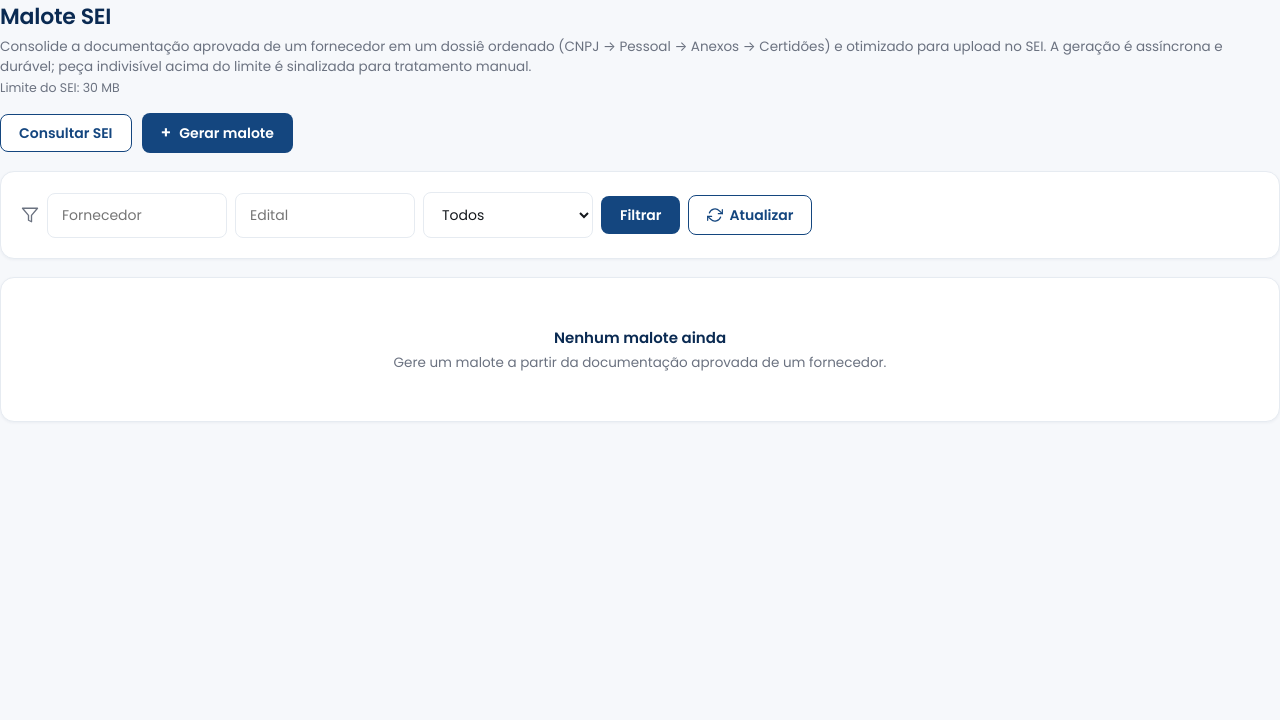
GerarMalote — Painel Admin do malote SEI (UC010) › remove uma peça adicionada no editor do modal
Expected: the element with test id "vazio" is shown, [394,327,886,372]
Click the button with test id "novo-malote" at (217, 133), box [142,113,293,153]
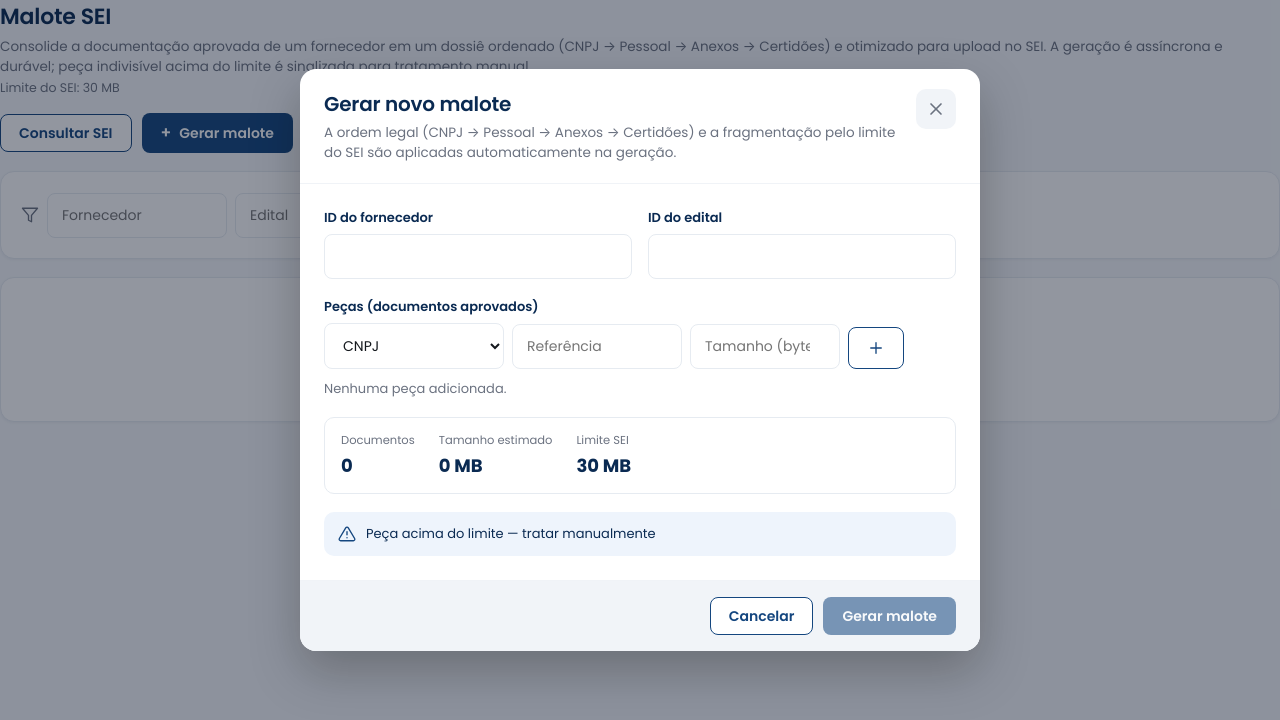
Expected: the dialog with test id "modal-malote" is shown, [300,69,980,651]
Type "doc1" into the field with test id "peca-ref" at (597, 346), box [512,324,682,369]
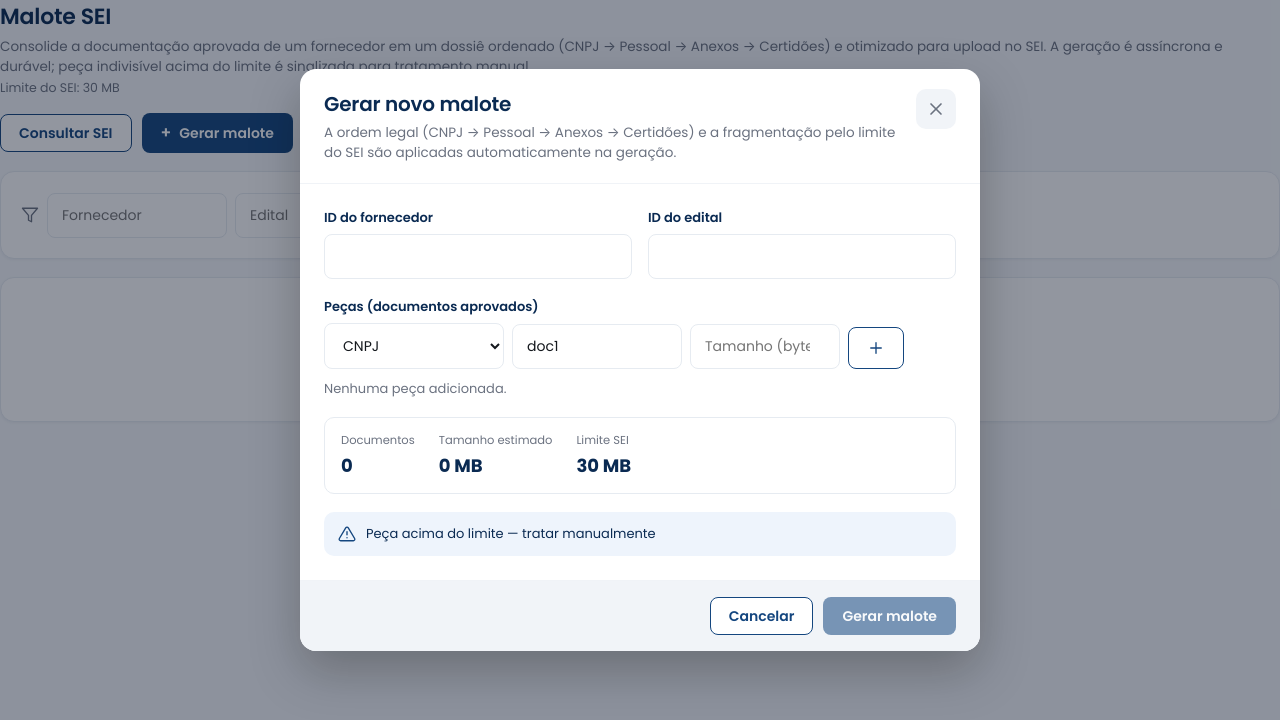
Type "100" into the number field with test id "peca-tamanho" at (765, 346), box [690,324,840,369]
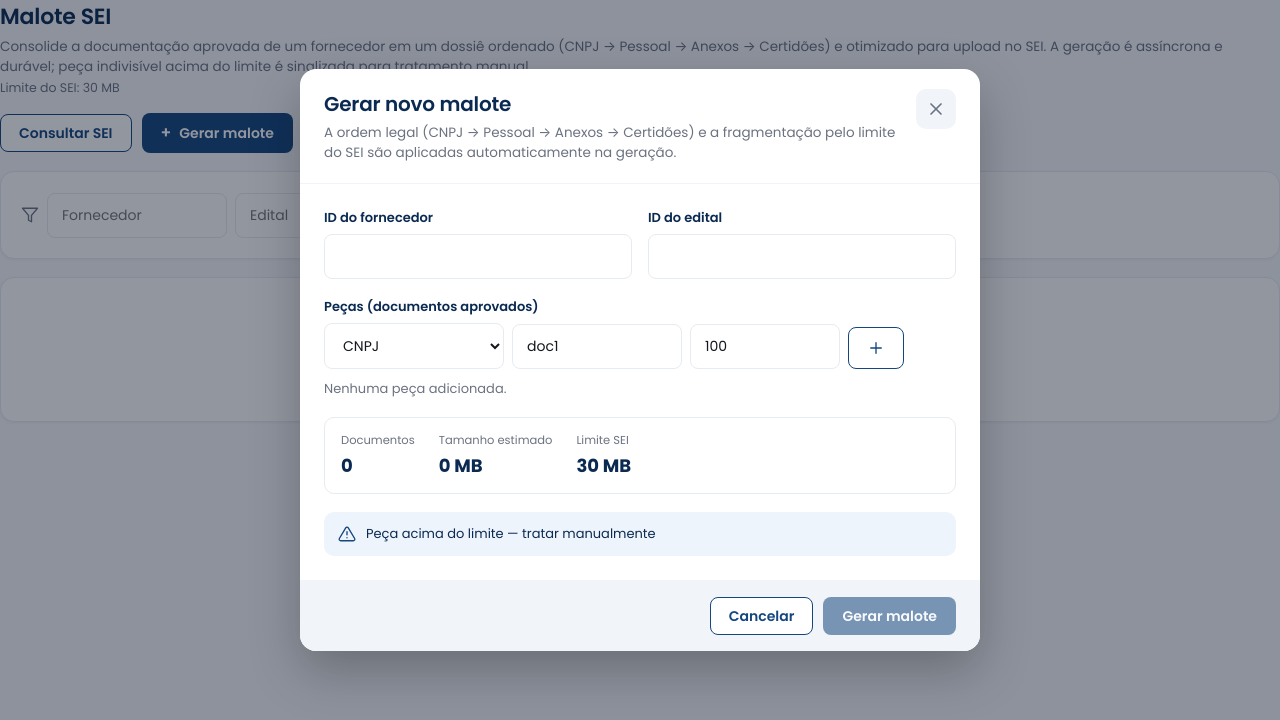
Click the button with test id "add-peca" at (876, 348), box [848,327,904,369]
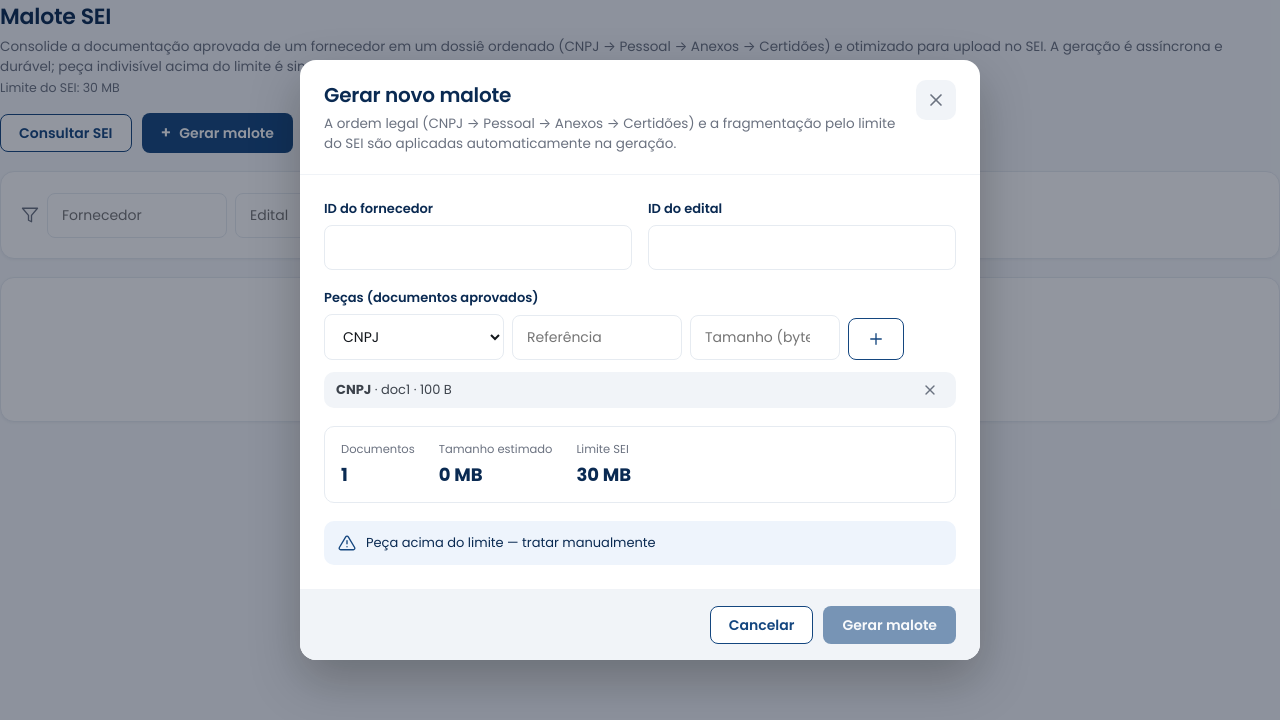
Expected: the list item with test id "item-peca" is shown, [324,372,956,408]
Click the button with test id "remover-peca" at (930, 390), box [916,381,944,399]
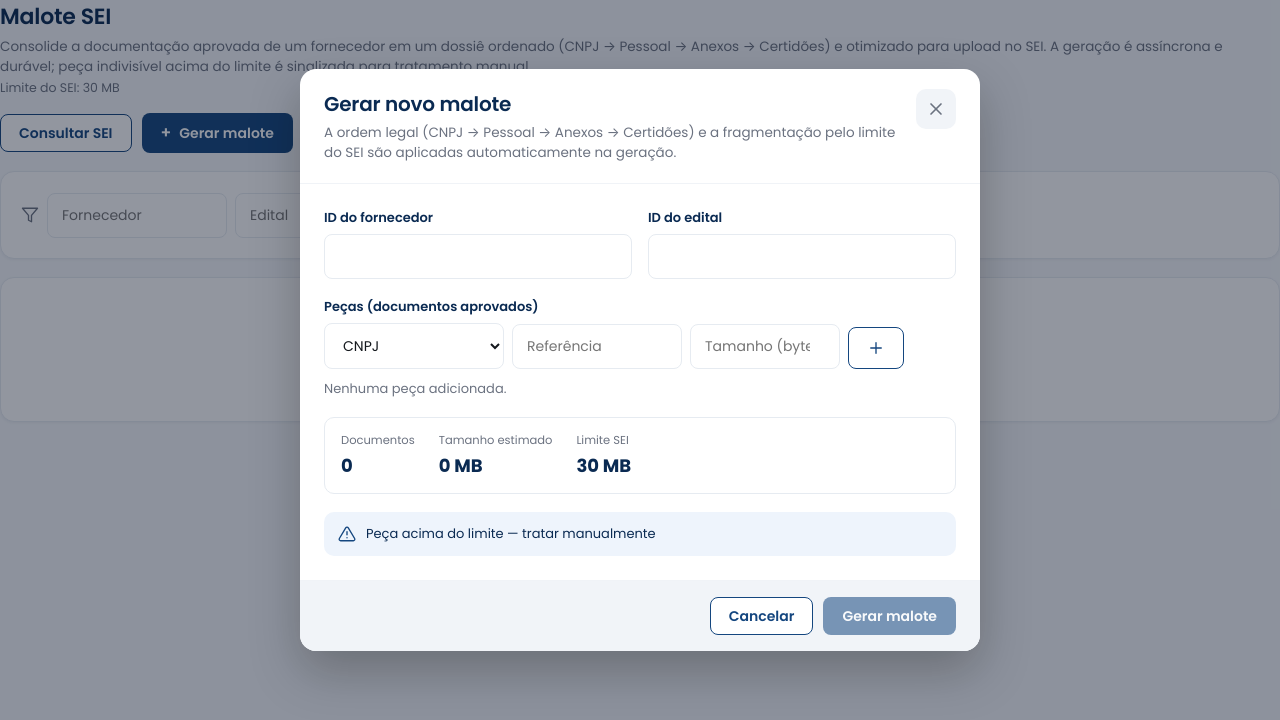
Expected: the list item with test id "item-peca" is gone
Expected: the text "Nenhuma peça adicionada." is shown, [324,379,506,398]
